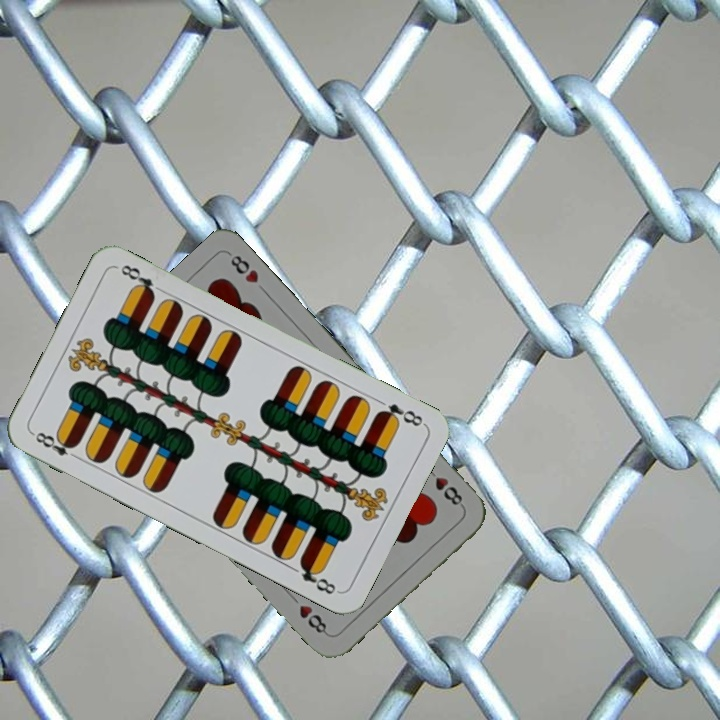E8: (28, 427, 83, 463), (372, 399, 427, 429)
H8: (422, 463, 467, 510)
